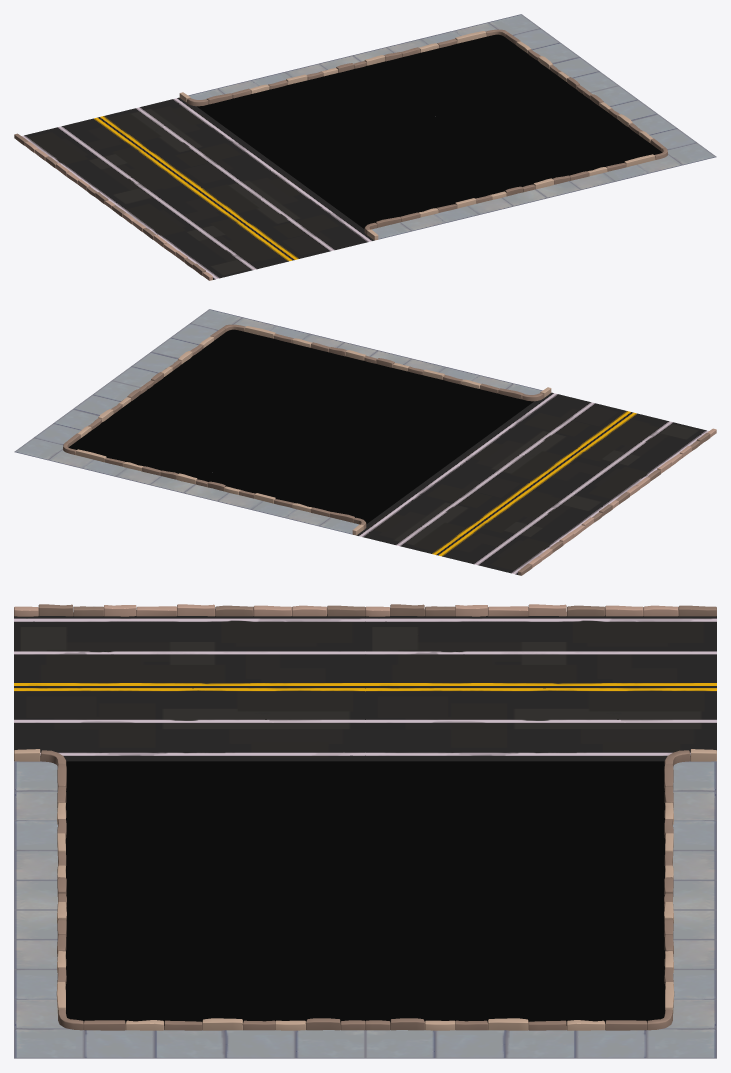
The model's file is CityRoad_parkingBig_0.fbx.
3 views of the same model, one above another, from view 1: azimuth 30°, elevation 25°; view 2: azimuth 150°, elevation 25°; view 3: azimuth 270°, elevation 25° (orthographic). The views are drawn at different scales.
Visible parts, largest first — view 1: CityRoad_parkingBig_0_mesh; view 2: CityRoad_parkingBig_0_mesh; view 3: CityRoad_parkingBig_0_mesh.
Boxes of the visible parts, x1,y1,x2,y2 form: CityRoad_parkingBig_0_mesh: (14,14,716,280); CityRoad_parkingBig_0_mesh: (14,309,716,575); CityRoad_parkingBig_0_mesh: (14,604,716,1058).
Size of what is drawn, in the model's own units: 3002 by 28.55 by 2000.
